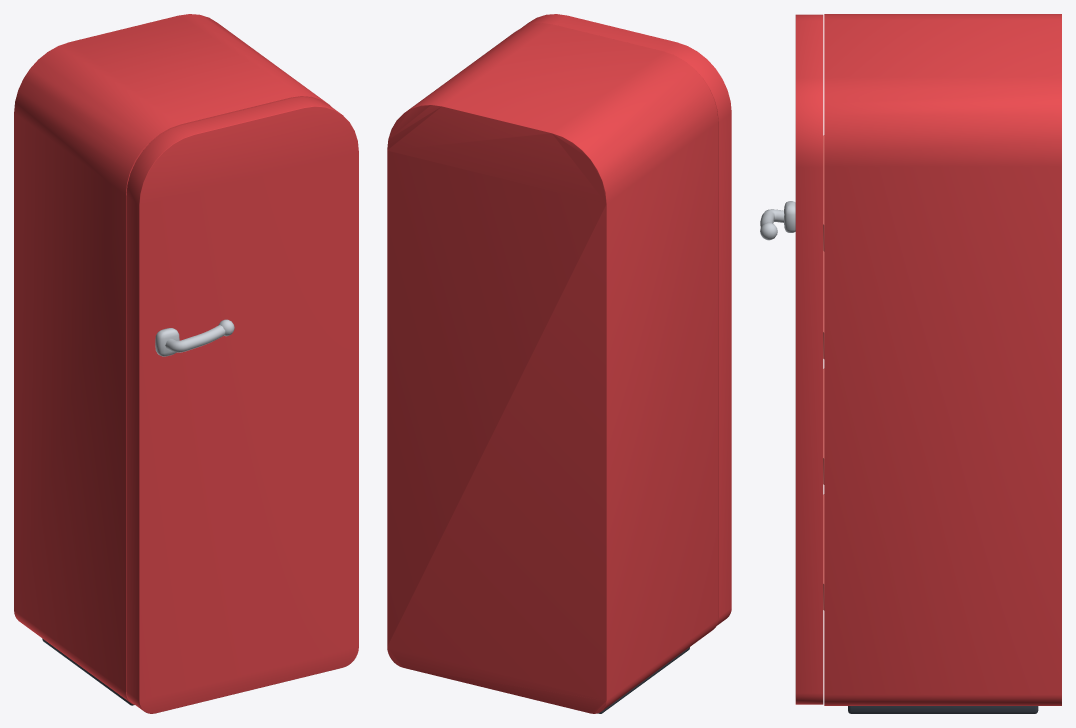
File: geladeira_retro_uma_porta_vermelha.glb
3 views of the same model, side by side, from view 1: azimuth 30°, elevation 25°; view 2: azimuth 150°, elevation 25°; view 3: azimuth 270°, elevation 25° (orthographic). The views are drawn at different scales.
Visible parts, largest first — view 1: porta_geladeira, geladeira_retro_uma_porta_vermelha; view 2: geladeira_retro_uma_porta_vermelha, porta_geladeira; view 3: geladeira_retro_uma_porta_vermelha, porta_geladeira.
Boxes of the visible parts, left/top/right/bottom form: porta_geladeira: left=126, top=97, right=358, bottom=713; geladeira_retro_uma_porta_vermelha: left=14, top=14, right=331, bottom=705; geladeira_retro_uma_porta_vermelha: left=387, top=23, right=718, bottom=713; porta_geladeira: left=522, top=14, right=731, bottom=625; geladeira_retro_uma_porta_vermelha: left=824, top=14, right=1061, bottom=713; porta_geladeira: left=760, top=14, right=824, bottom=704.
Bounding box in the file's own units: 0.68 × 1.72 × 0.762.
2 materials, 1 textured.
